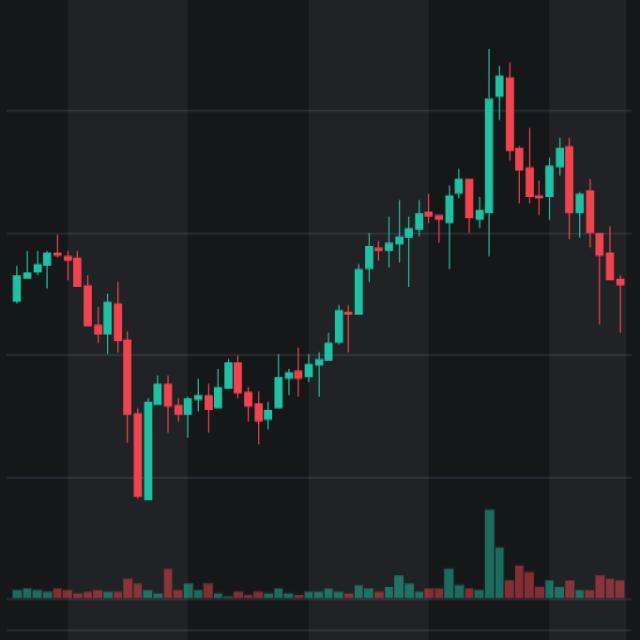Channel-up: (114, 72, 503, 553)
